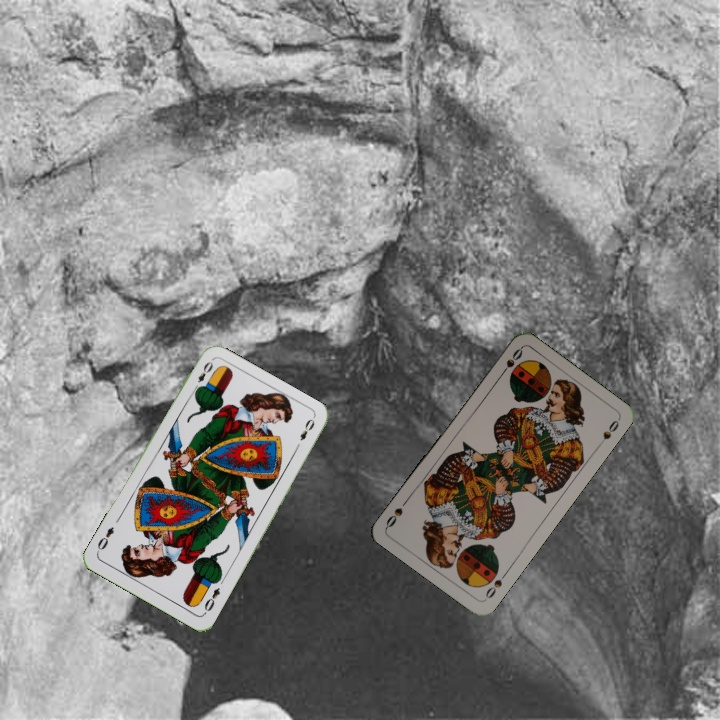EO: (189, 357, 216, 394), (200, 583, 222, 617)
SO: (496, 344, 525, 379), (481, 568, 510, 603)
